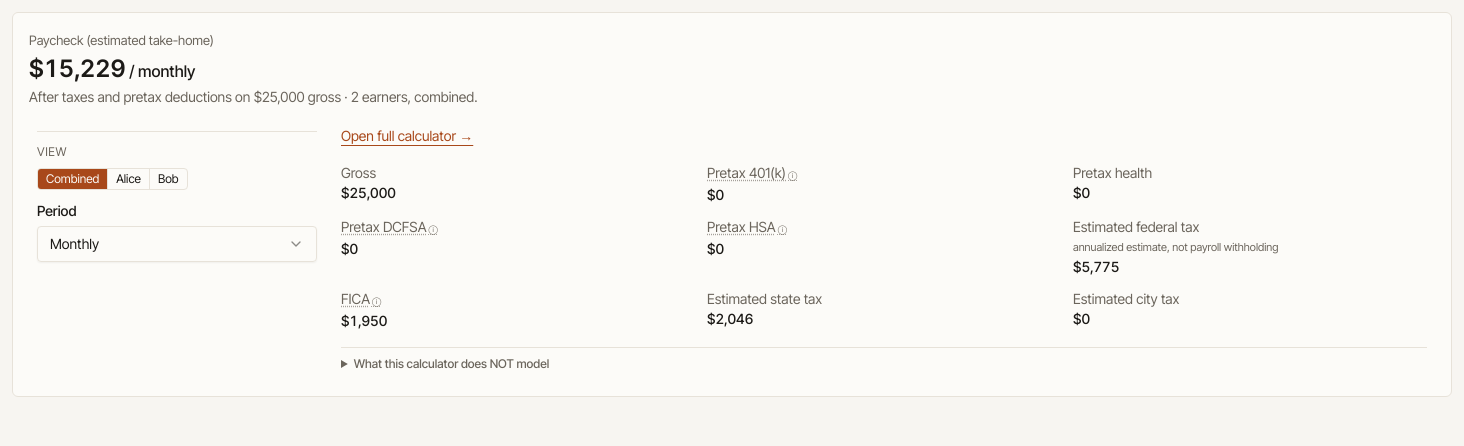
Scenario: PaycheckCard Combined | per-person view (Wave 18 D16) › Combined view stays byte-identical after switching away and back
The image size is (1464, 446).
Expected: the element with test id "paycheck-takehome" is shown, [29,54,196,82]
Expected: the text "$1,950" is shown, [341,312,387,328]
Click the button "Bob": (168,178) [149,168,187,188]
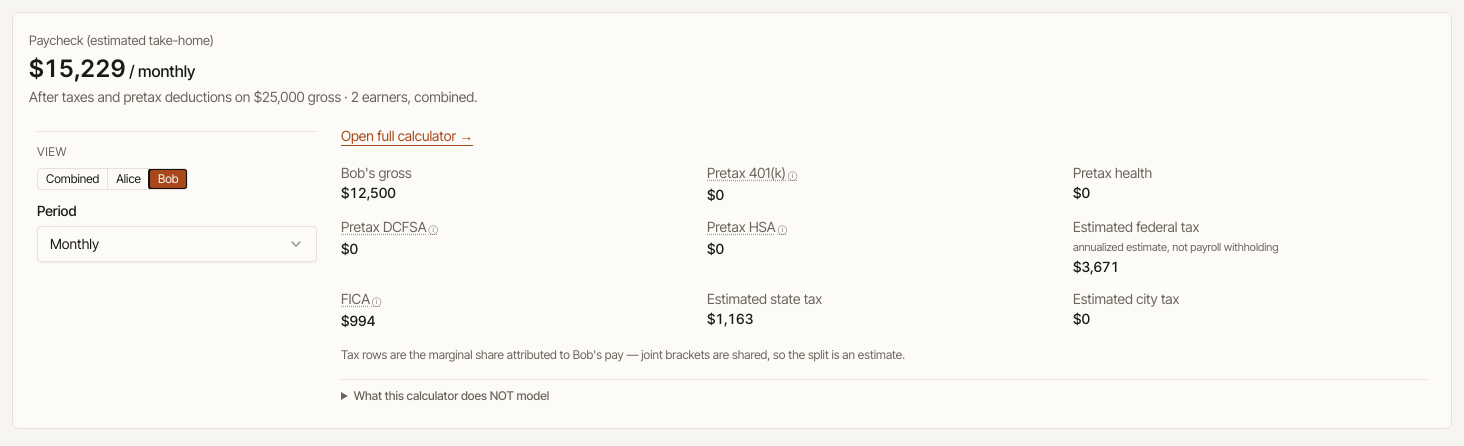
Click the button "Combined": (73,178) [38,168,107,188]
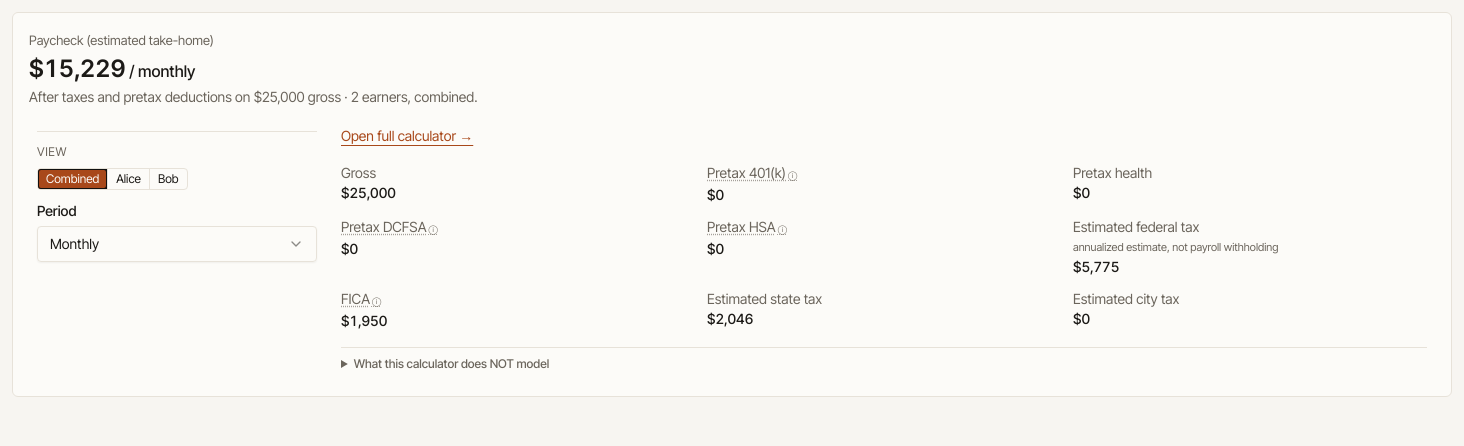
Now the text "$1,950" is shown, box [341,312,387,328]
Now the text "marginal share attributed" is gone
